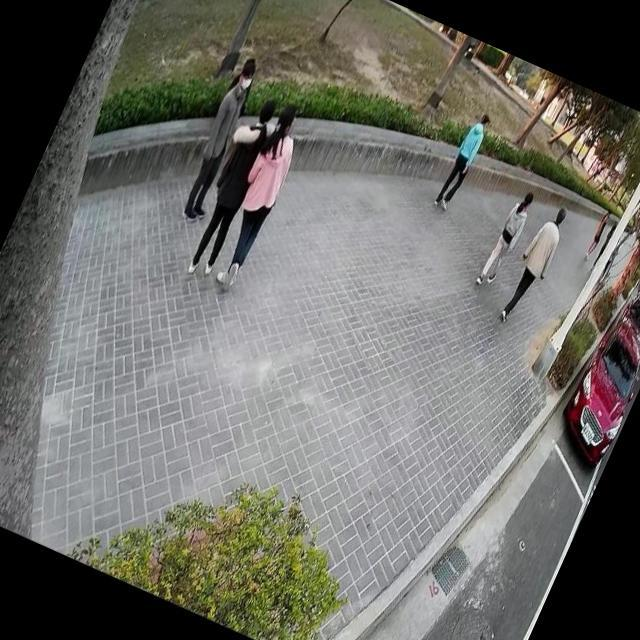person: (196, 91, 320, 300), (172, 82, 291, 285), (168, 51, 273, 232), (490, 194, 578, 336), (470, 180, 542, 298), (428, 104, 497, 218), (580, 204, 614, 264)
